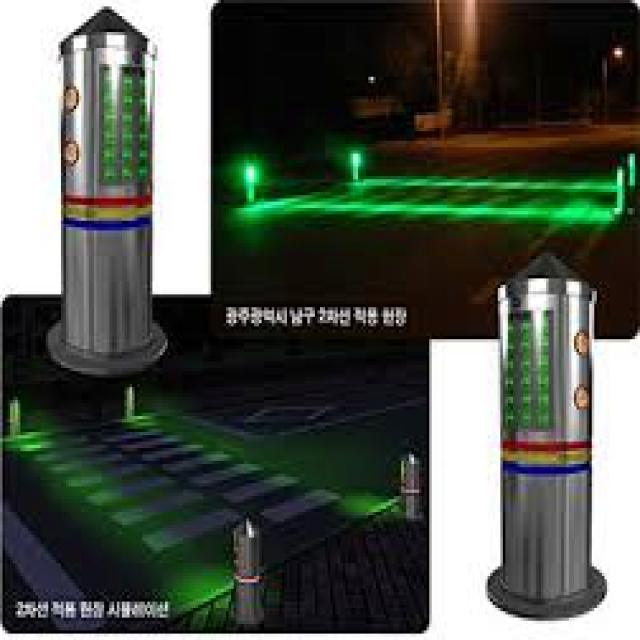bollard: (47, 6, 178, 372), (489, 242, 616, 616), (203, 514, 281, 627), (393, 442, 429, 531)
